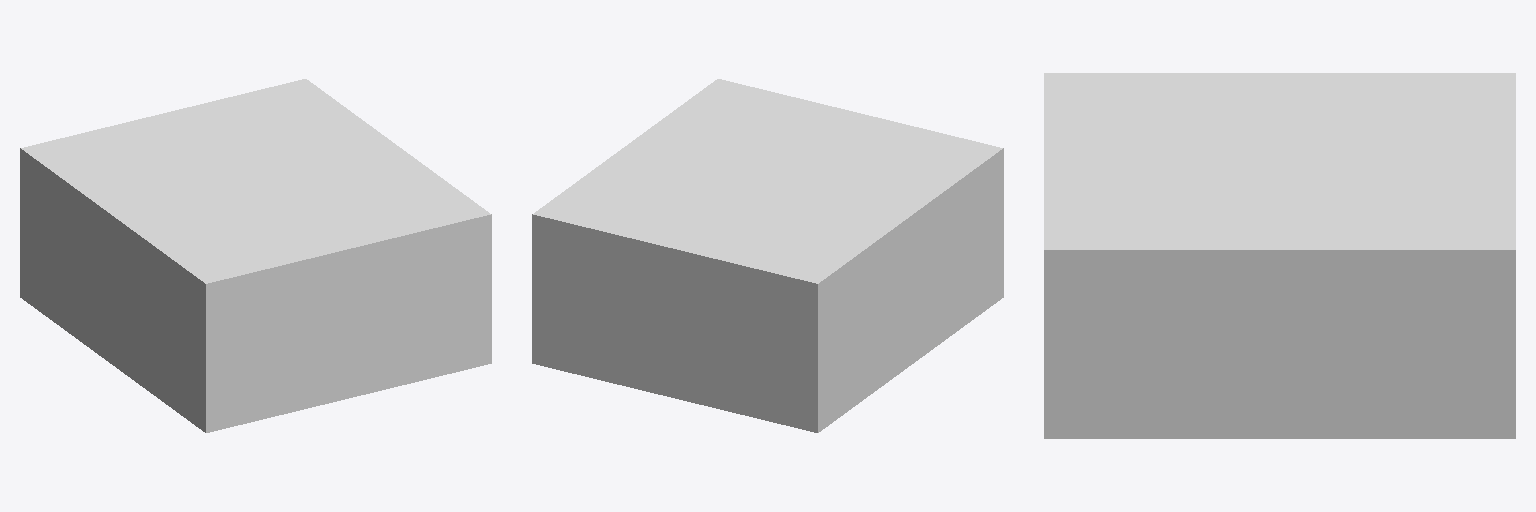
robot.urdf — table:
<?xml version="1.0"?>
<robot name="table">
  <link name="base_link">
    <contact>
      <rolling_friction value="0.001"/>
    </contact>
    <inertial>
      <mass value=".0"/>
      <inertia ixx="1" ixy="0" ixz="0" iyy="1" iyz="0" izz="1"/>
    </inertial>
    <visual>
      <geometry>
        <box size="0.8 0.9 0.4" />
      </geometry>
      <material name="table_mat">
        <color rgba="0.93 0.93 0.93 1" />
      </material>
    </visual>
    <collision>
      <geometry>
        <box size="0.8 0.9 0.4" />
      </geometry>
    </collision>
   </link>
</robot>

--- Render facts (derived) ---
The picture shows the robot from 3 angles, left to right: view 1: azimuth 30°, elevation 25°; view 2: azimuth 150°, elevation 25°; view 3: azimuth 270°, elevation 25°; orthographic projection.
Model table with 1 links and 0 joints (none), rooted at base_link, posed all joints at 0.
Visible links, largest first — view 1: base_link; view 2: base_link; view 3: base_link.
Link boxes in pixels (box(x1,y1,x2,y2)): base_link: box(20, 79, 491, 432); base_link: box(532, 79, 1003, 432); base_link: box(1044, 73, 1515, 438).
Size in the robot's own frame: 0.8 by 0.9 by 0.4 metres.
Geometry: primitives only (box / cylinder / sphere), no mesh files.